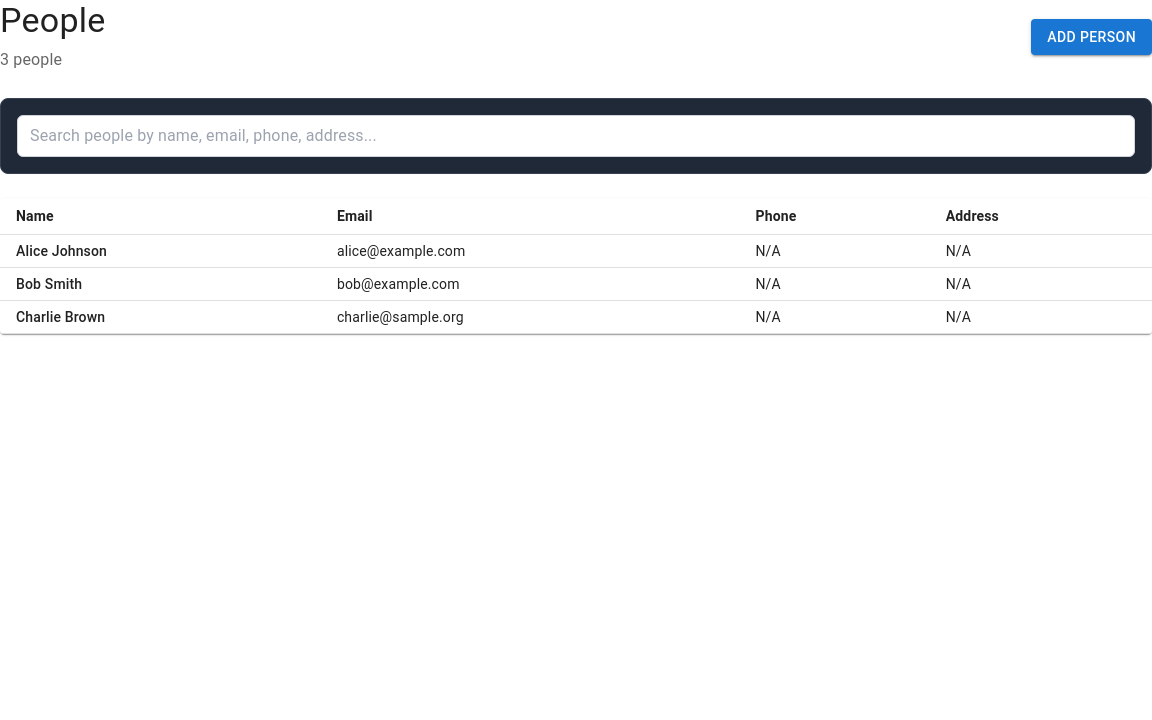
Scenario: PeopleTab (MUI version) › opens creation modal when Add Person (aria-label New Person) clicked
The image size is (1152, 720).
Click the button with aria-label "New Person" at (1092, 37), box left=1031, top=19, right=1151, bottom=55
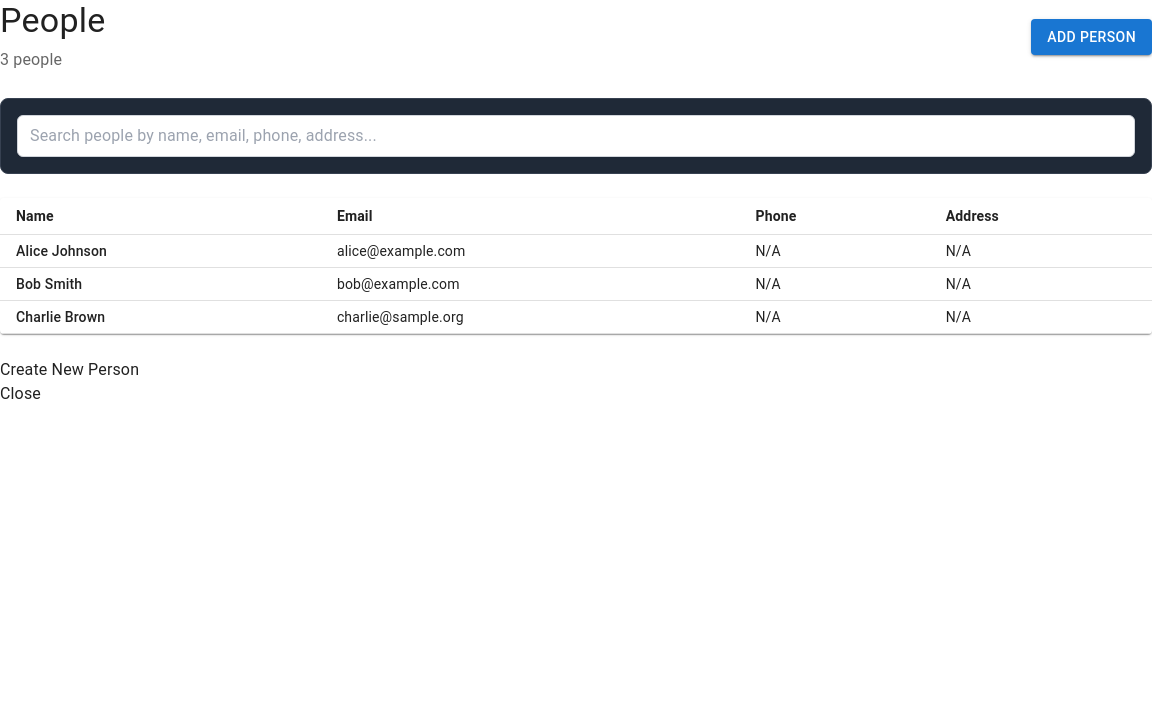
Now the dialog is shown, box left=0, top=360, right=139, bottom=406
Now the heading "Create New Person" is shown, box left=0, top=360, right=139, bottom=379
